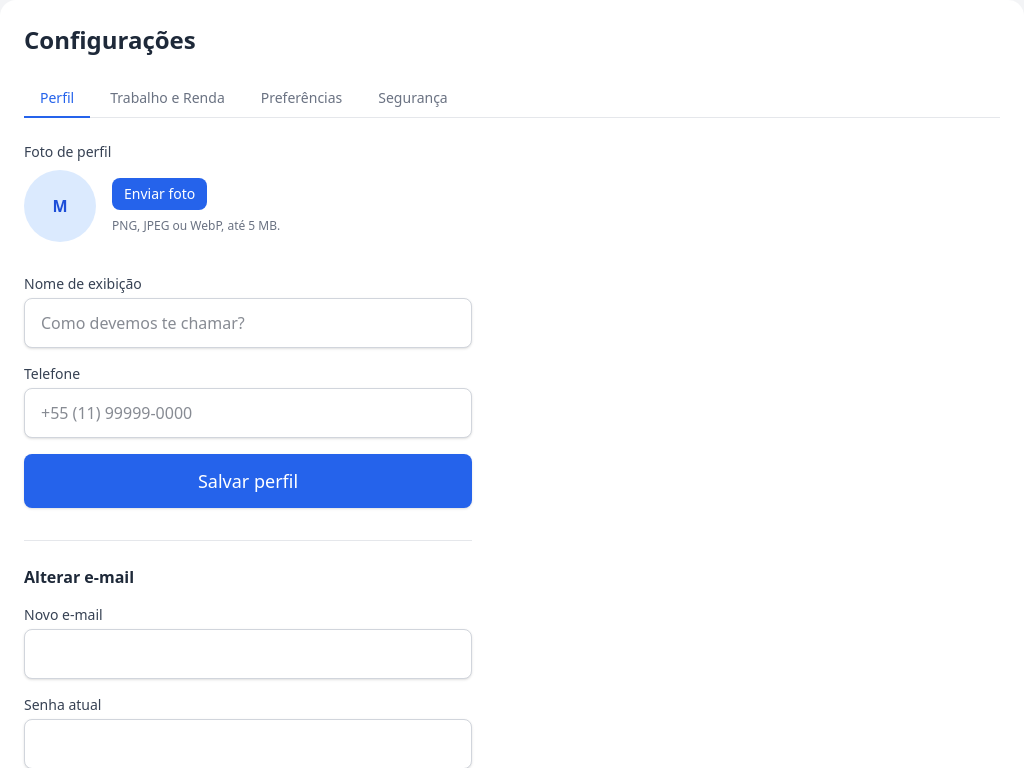
Test: SettingsPage › switches to the Work & Income tab
The width and height of the screenshot is (1024, 768).
Click the button "Trabalho e Renda".
click(167, 99)  # box [94,80,241,118]
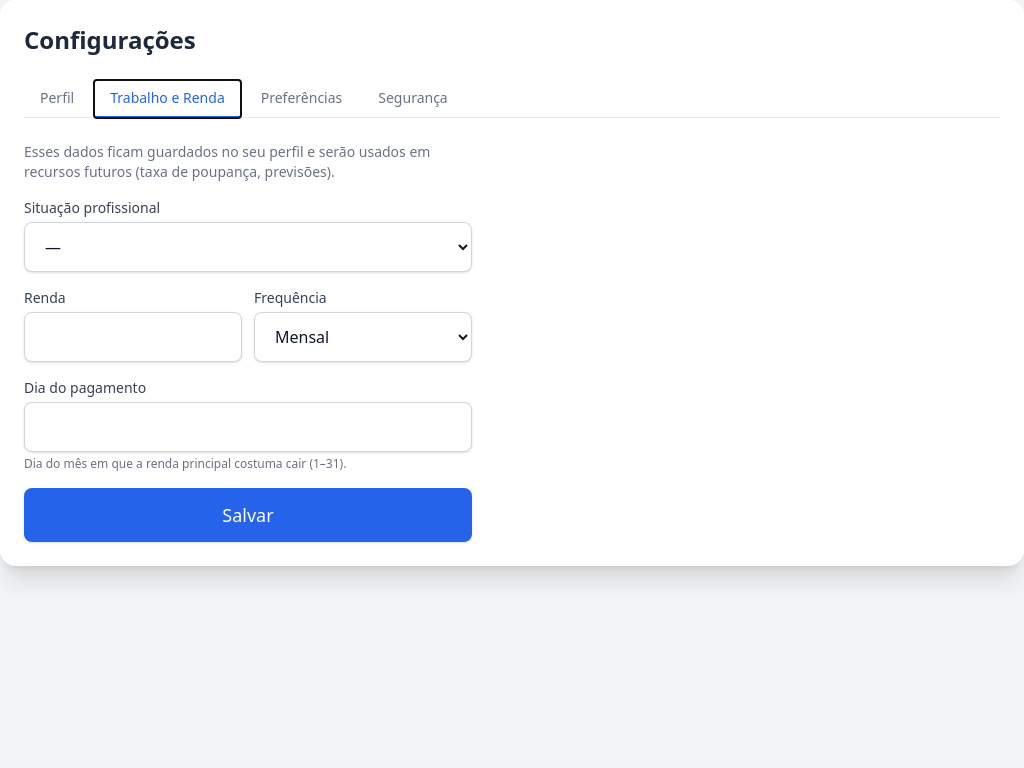
Check: the dropdown labelled "Situação profissional" is shown, box [24,222,472,272]
